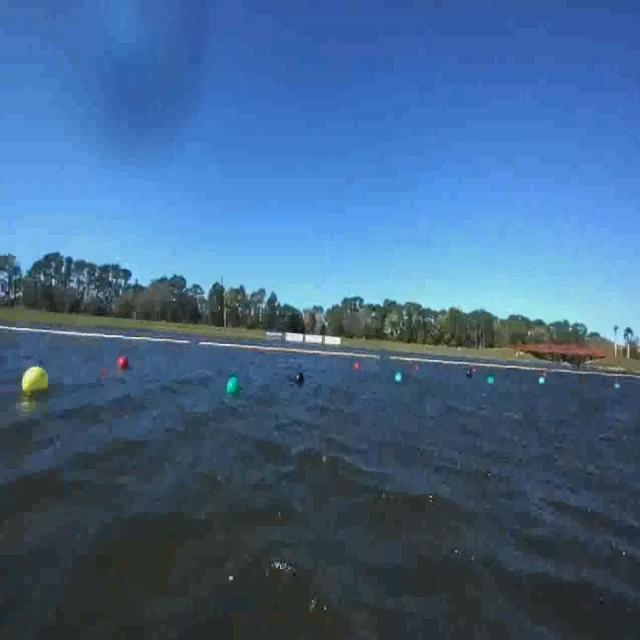black-buoy: (296, 373, 303, 387)
green-buoy: (226, 374, 241, 394)
red-buoy: (120, 356, 131, 371)
yellow-buoy: (20, 365, 47, 393)
